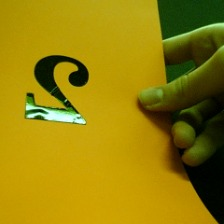orange2: (22, 50, 95, 130)
